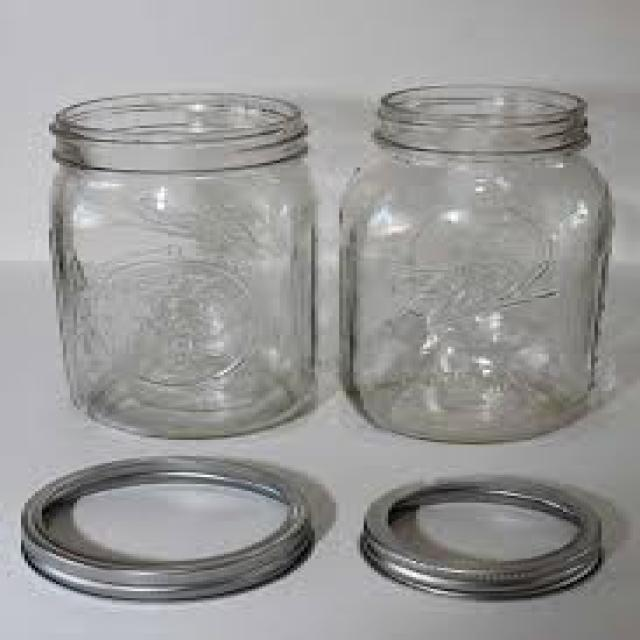glass: (332, 84, 612, 442), (49, 91, 311, 438)
metal: (17, 454, 315, 600), (353, 475, 598, 600)
